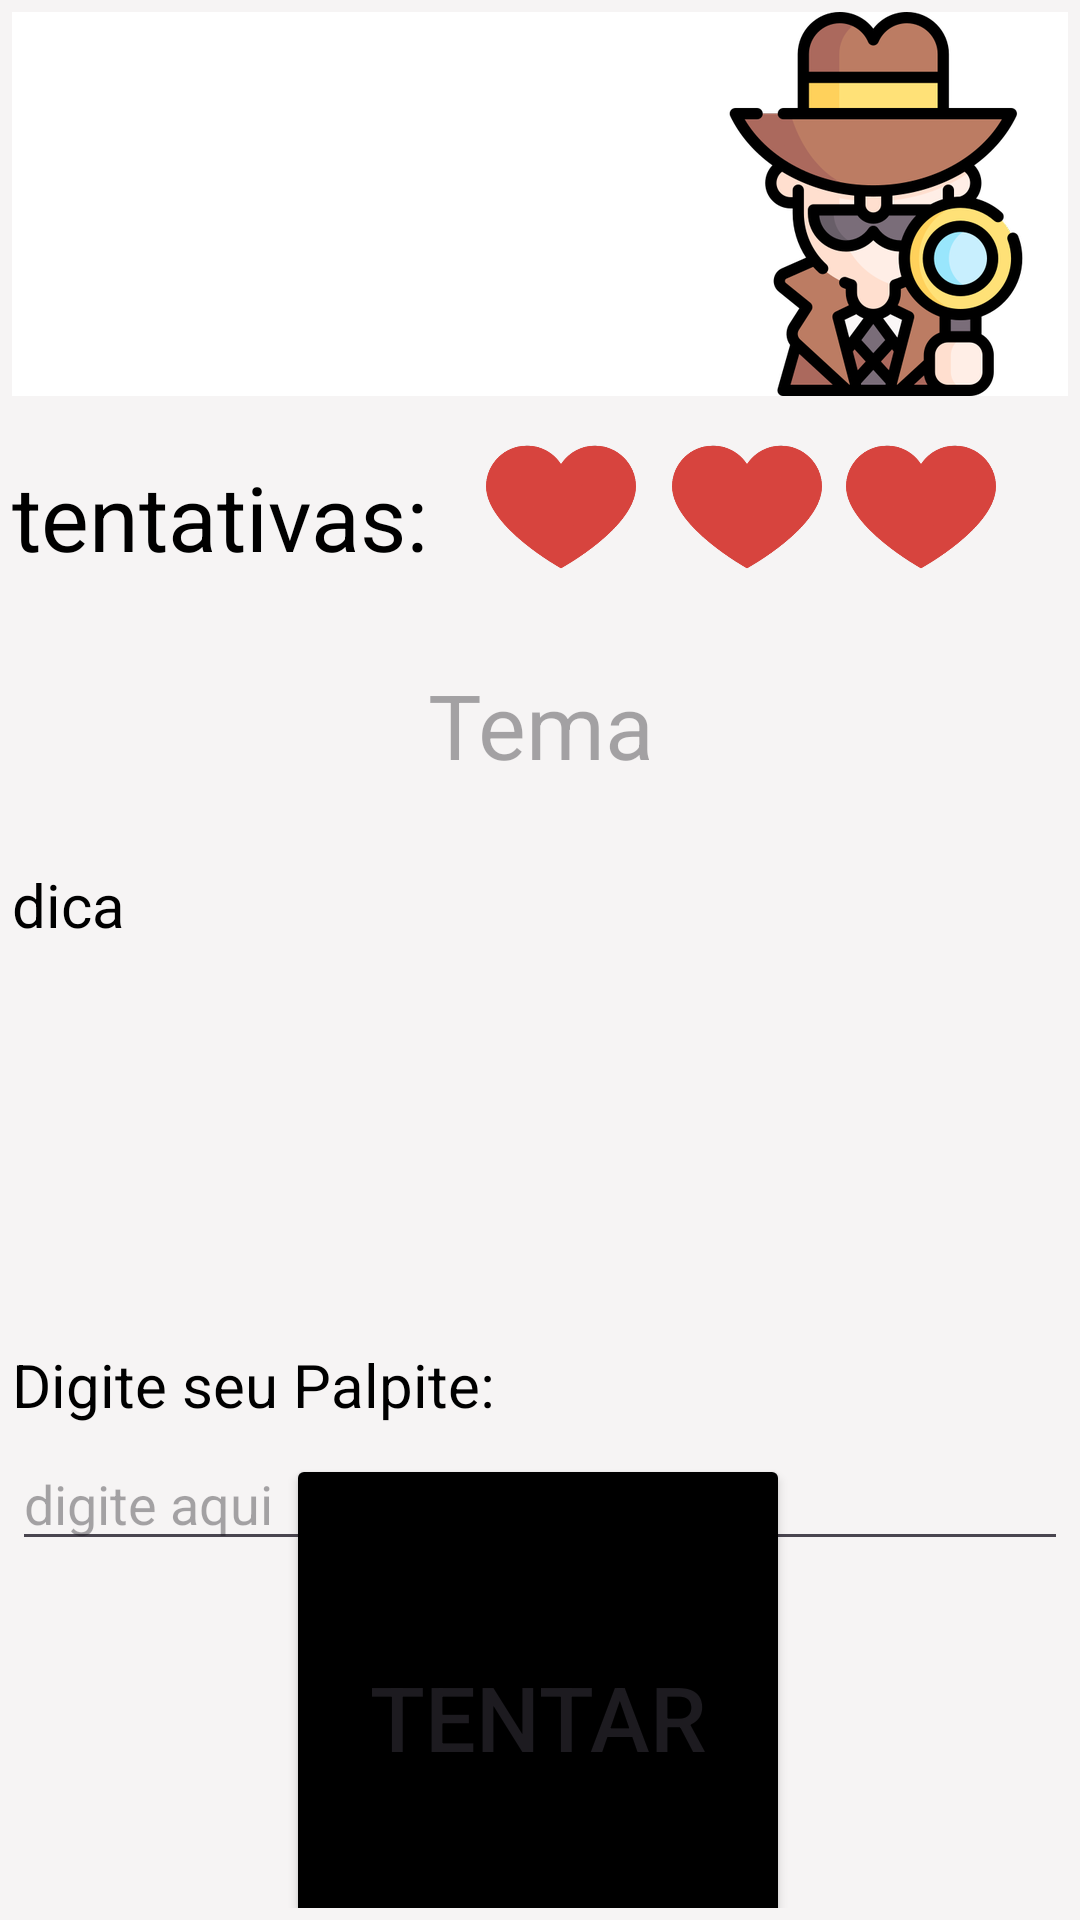

Icons on this 1080px x 1920px Android screen, each with its box as [x1=x1, y1=y1, x2=x2, y2=y2]:
coracao vermelho: [x1=486, y1=445, x2=636, y2=568], [x1=672, y1=445, x2=822, y2=568], [x1=846, y1=445, x2=996, y2=568]
